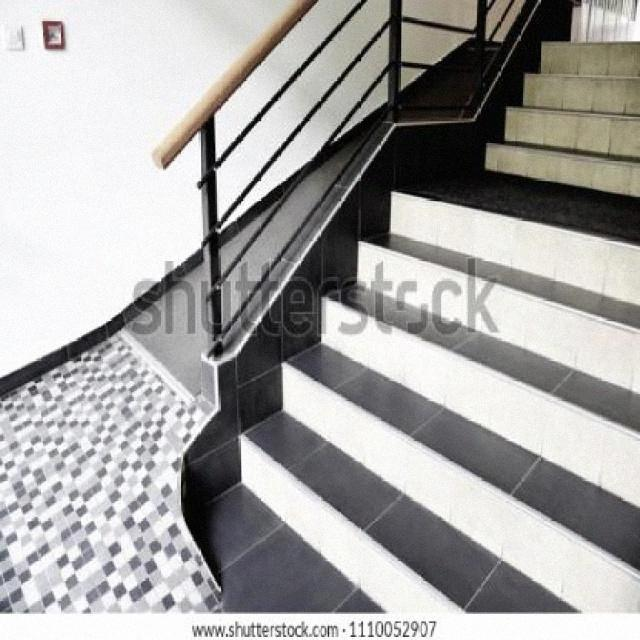stair: (213, 0, 639, 612)
